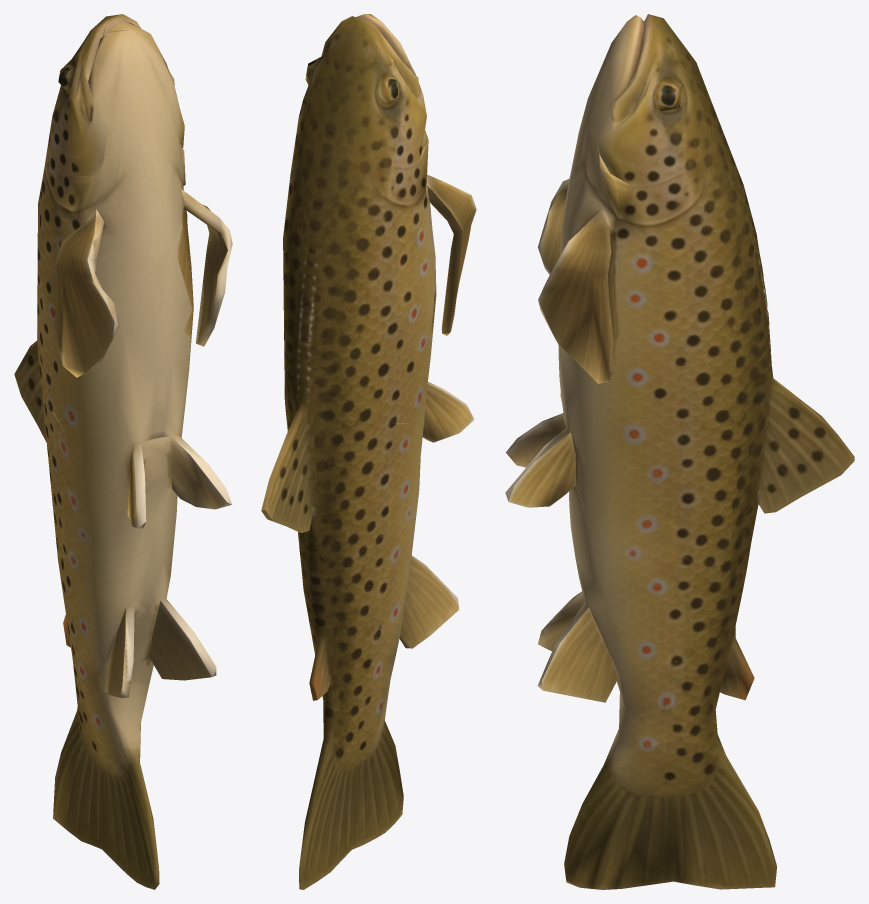
The model's file is brown-trout.glb.
3 renders of one model, left to right at view 1: azimuth 30°, elevation 25°; view 2: azimuth 150°, elevation 25°; view 3: azimuth 270°, elevation 25°, orthographic. The views are drawn at different scales.
Visible parts, largest first — view 1: FishBrownTrout; view 2: FishBrownTrout; view 3: FishBrownTrout.
Part boxes in pixels (x1,y1,x2,y2): FishBrownTrout: [14, 14, 232, 889]; FishBrownTrout: [261, 14, 476, 889]; FishBrownTrout: [505, 14, 854, 889].
Size of the model in its own units: 0.1926 by 0.9495 by 0.3444.
Materials: 1 (1 with a texture image).
